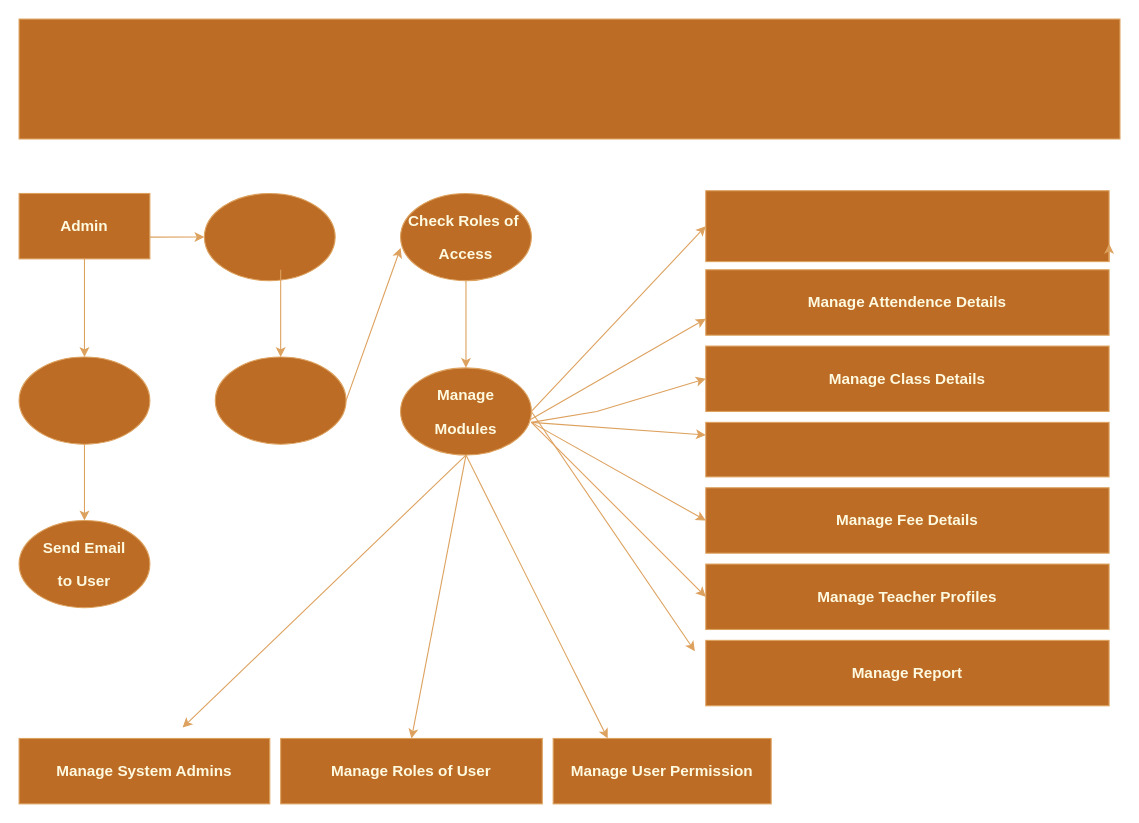
The diagram is 1139 pixels wide and 823 high, and some of its shapes have lost their labels. Each missing label, with the box of its shape:
Check Credentials: (214, 356, 346, 444)
Forget Password: (18, 356, 150, 444)
Login to System: (203, 192, 335, 281)
Manage Students Details: (705, 421, 1109, 477)
Manage Timetable Details: (705, 190, 1109, 262)
Student Information System: (18, 18, 1120, 139)
